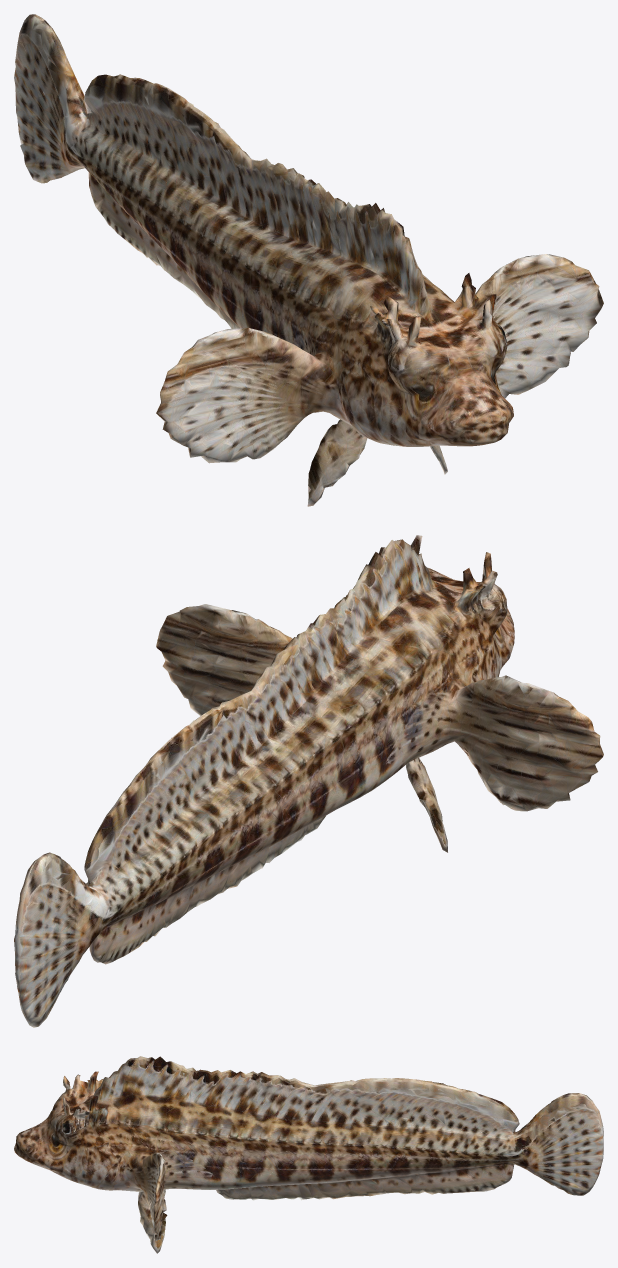
Rendered from fish_blenny.glb.
3 renders of one model, top to bottom at view 1: azimuth 30°, elevation 25°; view 2: azimuth 150°, elevation 25°; view 3: azimuth 270°, elevation 25°, orthographic. The views are drawn at different scales.
Visible parts, largest first — view 1: geometry_0; view 2: geometry_0; view 3: geometry_0.
Part boxes in pixels (left/top/right/bottom): geometry_0: left=14, top=14, right=603, bottom=506; geometry_0: left=14, top=535, right=603, bottom=1027; geometry_0: left=14, top=1056, right=603, bottom=1253.
Bounding box in the file's own units: 1.06 × 0.6503 × 1.96.
1 material, 1 textured.
